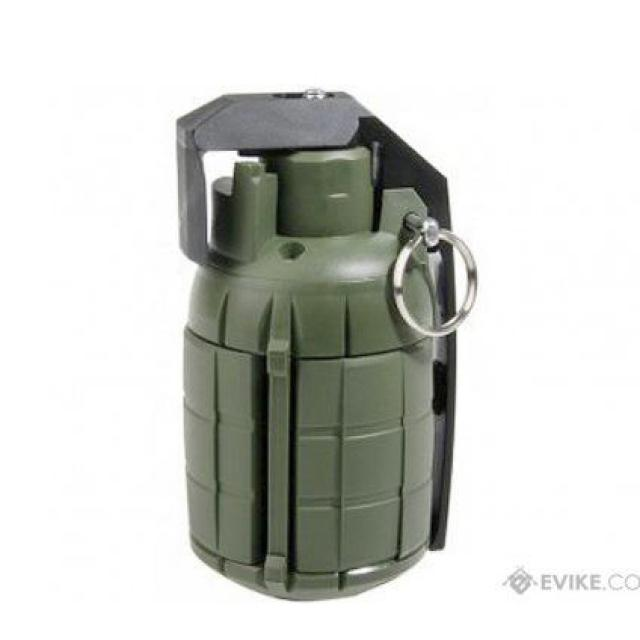grenade: (176, 90, 477, 597)
